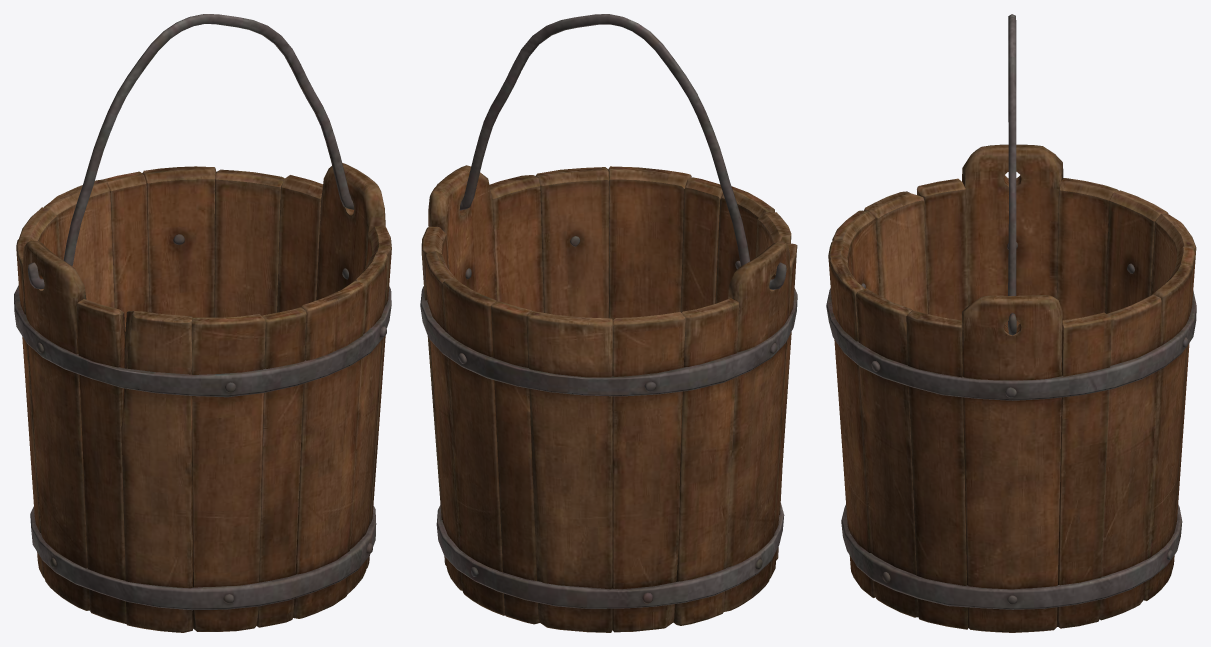
Rendered from wooden_bucket_01.gltf.
3 renders of one model, left to right at view 1: azimuth 30°, elevation 25°; view 2: azimuth 150°, elevation 25°; view 3: azimuth 270°, elevation 25°, orthographic.
Parts seen in each view (by area): view 1: wooden_bucket_01, wooden_bucket_01_handle; view 2: wooden_bucket_01, wooden_bucket_01_handle; view 3: wooden_bucket_01, wooden_bucket_01_handle.
Part boxes in pixels (bbox=[...]): wooden_bucket_01: bbox=[14, 163, 391, 632]; wooden_bucket_01_handle: bbox=[27, 14, 354, 289]; wooden_bucket_01: bbox=[420, 165, 797, 632]; wooden_bucket_01_handle: bbox=[437, 14, 786, 289]; wooden_bucket_01: bbox=[826, 144, 1196, 632]; wooden_bucket_01_handle: bbox=[1008, 14, 1016, 335].
Size of the model in its own units: 0.367 by 0.5499 by 0.3422.
1 material, 1 textured.
